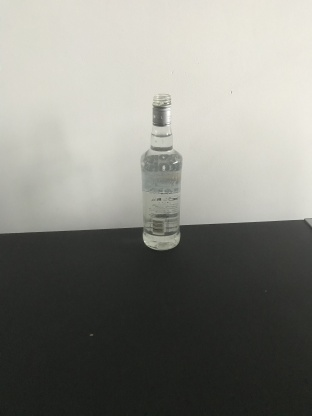nakretka: (150, 91, 172, 127)
